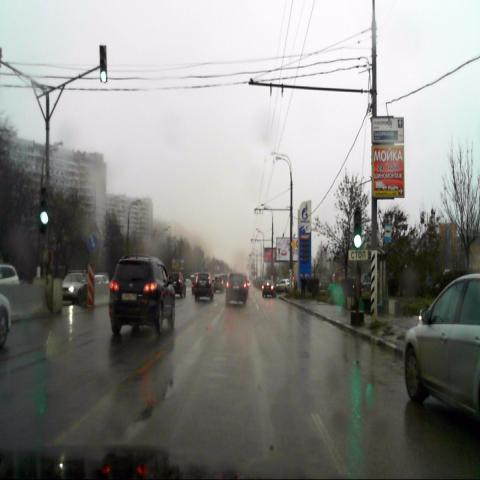4_2_1: (88, 234, 98, 252)
5_16: (384, 224, 392, 242)
6_16: (348, 249, 368, 260)
